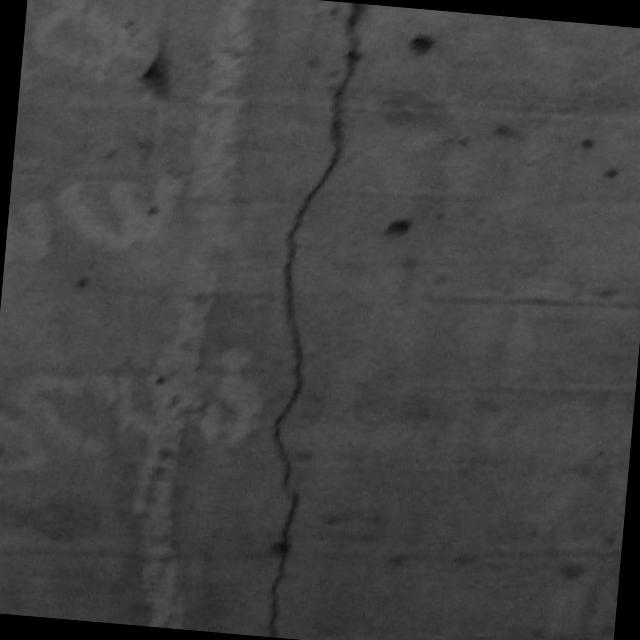crack: (252, 0, 379, 640)
